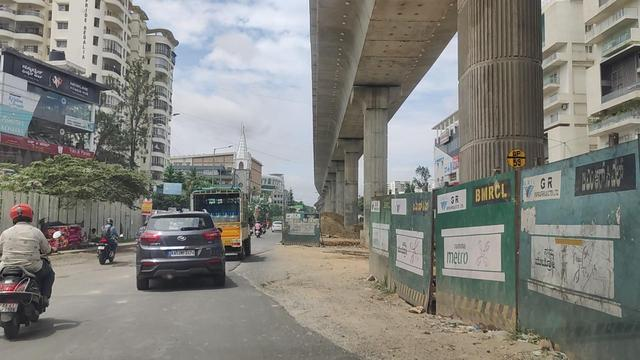LMV: (144, 210, 233, 294), (10, 209, 52, 327)
RoadDamages: (305, 304, 355, 356), (261, 282, 294, 320), (240, 260, 268, 278)
